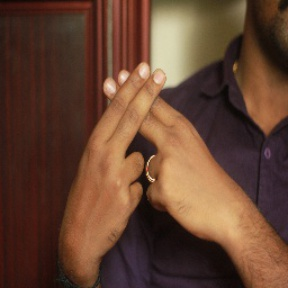F: (76, 59, 206, 186)
